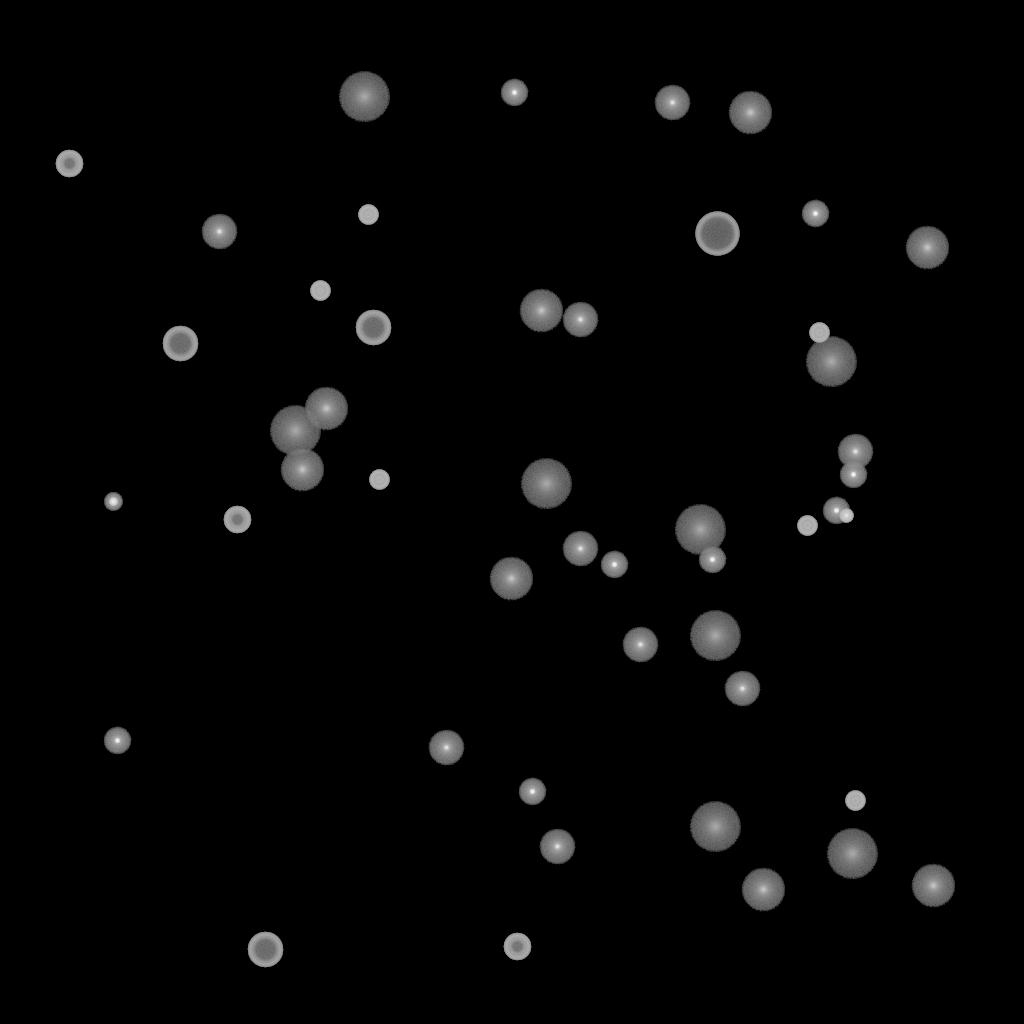depth:-10: (801, 200, 829, 228), (698, 546, 726, 574), (600, 551, 628, 579), (500, 79, 528, 107), (518, 778, 546, 806), (822, 497, 850, 525), (103, 727, 131, 755), (839, 461, 867, 489)
depth:-20: (104, 493, 122, 511)
depth:-30: (839, 509, 853, 523)
depth:-40: (845, 791, 865, 811), (809, 323, 829, 343), (797, 516, 817, 536), (369, 470, 389, 490), (310, 281, 330, 301), (358, 205, 378, 225)
depth:-50: (223, 506, 251, 534), (55, 150, 83, 178), (503, 933, 531, 961)
depth:-60: (355, 310, 391, 346), (247, 932, 283, 968), (162, 326, 198, 362)
depth:-70: (695, 212, 739, 256)
depth:0: (562, 531, 598, 567), (622, 627, 658, 663), (201, 214, 237, 250), (562, 302, 598, 338), (724, 671, 760, 707), (428, 730, 464, 766), (539, 829, 575, 865), (837, 434, 873, 470), (654, 85, 690, 121)
depth:10: (728, 91, 772, 135), (489, 557, 533, 601), (280, 448, 324, 492), (911, 864, 955, 908), (905, 226, 949, 270), (304, 387, 348, 431), (519, 289, 563, 333), (741, 868, 785, 912)
depth:20: (689, 802, 741, 852), (826, 829, 878, 879), (674, 505, 726, 555), (520, 459, 572, 509), (689, 611, 741, 661), (338, 72, 390, 122), (805, 337, 857, 387), (269, 406, 321, 456)
